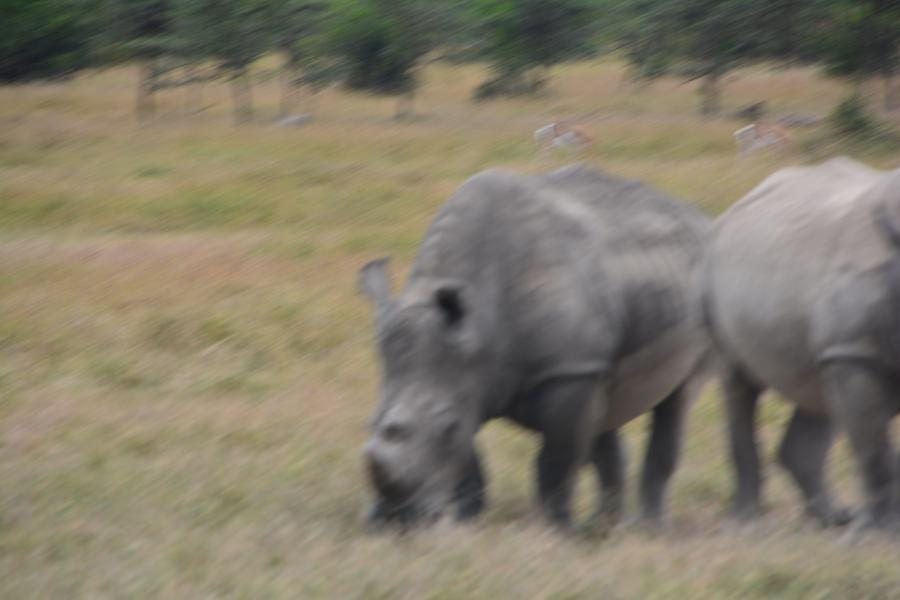rhino: (346, 173, 689, 512), (705, 165, 889, 530)
